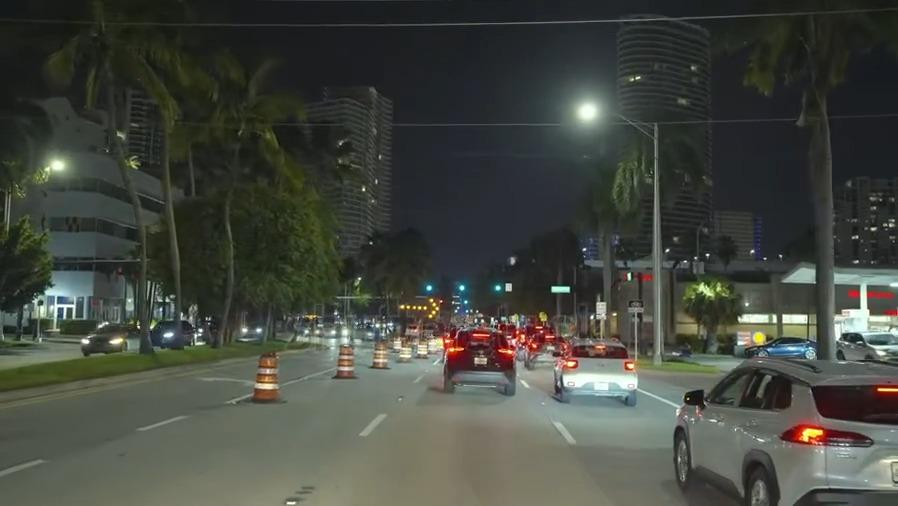car: (676, 351, 898, 506), (559, 339, 638, 406), (442, 329, 515, 398), (838, 330, 897, 366), (79, 320, 143, 353), (745, 337, 815, 357), (148, 319, 194, 349), (525, 332, 563, 368)
cone: (250, 354, 283, 405), (336, 342, 357, 383), (371, 339, 388, 371), (399, 339, 414, 362)
wheel: (669, 428, 695, 492), (740, 463, 775, 506)
